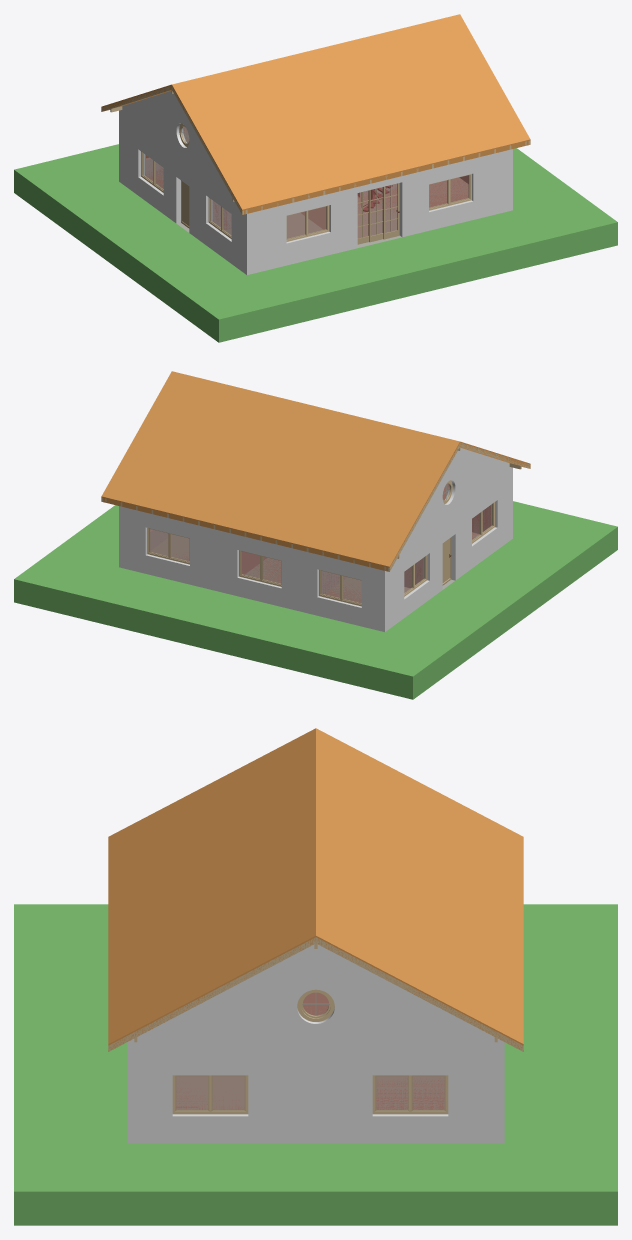
File: fzk.glb
The picture shows the model from 3 angles, top to bottom: view 1: azimuth 30°, elevation 25°; view 2: azimuth 150°, elevation 25°; view 3: azimuth 270°, elevation 25°; orthographic projection. The views are drawn at different scales.
Parts seen in each view (by area): view 1: 0KMpiAlnb52RgQuM1CwVfd, 2IxUUNUVPB6Ob$eicCfP2N, 16DNNqzfP2thtfaOflvsKA, 3rPX_Juz59peXXY6wDJl18, 0knNIAVBPBFvBy_m5QVHsU, 1pPHnf7cXCpPsNEnQf8_6B, 1M$gxUrX1Fiwe3P64ww7U5, 0Lt8gR_E9ESeGH5uY_g9e9, 25nJxEpYf8LRDJNkMUVO0m, 3BFcylCsX74PQAoRAe5fNv, 17JZcMFrf5tOftUTidA0d3, 0B1RwEzzP3CfME5NR$Vqh5 (+1 smaller); view 2: 0KMpiAlnb52RgQuM1CwVfd, 07Enbsqm9C7AQC9iyBwfSD, 1bzfVsJqn8De5PukCrqylz, 3rPX_Juz59peXXY6wDJl18, 0knNIAVBPBFvBy_m5QVHsU, 1pPHnf7cXCpPsNEnQf8_6B, 1DiYqhfzH9xxuJdVHwXCNa, 1TAI4ouKX4Xx4lBDZIu5qM, 2Q9w7oRXP249jBobEMVqlZ, 2RSCzLOBz4FAK$_wE8VckM, 0e_hbkIQ5DMQlIJ$2V3j_m, 347jFE2yX7IhCEIALmupEH (+2 smaller); view 3: 0KMpiAlnb52RgQuM1CwVfd, 07Enbsqm9C7AQC9iyBwfSD, 2IxUUNUVPB6Ob$eicCfP2N, 25fsbPyk15VvuXI$yNKenK, 3VCarUKgH1buLo22Ozxe6J, 1pPHnf7cXCpPsNEnQf8_6B, 13aSY79zb8fP4HApEJ0z_e, 2EQh_jhP1B_A_AMuSJc5E0, 347jFE2yX7IhCEIALmupEH, 0Lt8gR_E9ESeGH5uY_g9e9, 2CxE0$jXr8iOH1VC2gLCXX, 2in0QvfYXEawl1f3MP1bq2 (+1 smaller).
Part boxes in pixels (x1,y1,x2,y2): 0KMpiAlnb52RgQuM1CwVfd: (14,144,617,342); 2IxUUNUVPB6Ob$eicCfP2N: (172,14,530,214); 16DNNqzfP2thtfaOflvsKA: (247,149,512,274); 3rPX_Juz59peXXY6wDJl18: (119,119,246,274); 0knNIAVBPBFvBy_m5QVHsU: (119,91,236,204); 1pPHnf7cXCpPsNEnQf8_6B: (149,174,468,247); 1M$gxUrX1Fiwe3P64ww7U5: (357,183,399,244); 0Lt8gR_E9ESeGH5uY_g9e9: (358,175,468,237); 25nJxEpYf8LRDJNkMUVO0m: (286,205,329,241); 3BFcylCsX74PQAoRAe5fNv: (429,174,471,210); 17JZcMFrf5tOftUTidA0d3: (213,201,325,237); 0B1RwEzzP3CfME5NR$Vqh5: (208,197,231,238); 0KMpiAlnb52RgQuM1CwVfd: (14,501,617,699); 07Enbsqm9C7AQC9iyBwfSD: (101,371,459,571); 1bzfVsJqn8De5PukCrqylz: (119,506,384,631); 3rPX_Juz59peXXY6wDJl18: (385,476,512,631); 0knNIAVBPBFvBy_m5QVHsU: (395,448,512,561); 1pPHnf7cXCpPsNEnQf8_6B: (150,532,479,602); 1DiYqhfzH9xxuJdVHwXCNa: (147,528,189,564); 1TAI4ouKX4Xx4lBDZIu5qM: (319,570,361,606); 2Q9w7oRXP249jBobEMVqlZ: (239,550,281,586); 2RSCzLOBz4FAK$_wE8VckM: (322,559,422,602); 0e_hbkIQ5DMQlIJ$2V3j_m: (242,551,280,582); 347jFE2yX7IhCEIALmupEH: (150,529,189,560); 0KMpiAlnb52RgQuM1CwVfd: (14,904,617,1225); 07Enbsqm9C7AQC9iyBwfSD: (316,728,523,1051); 2IxUUNUVPB6Ob$eicCfP2N: (108,728,315,1051); 25fsbPyk15VvuXI$yNKenK: (127,1051,504,1143); 3VCarUKgH1buLo22Ozxe6J: (127,944,504,1051); 1pPHnf7cXCpPsNEnQf8_6B: (176,1076,444,1109); 13aSY79zb8fP4HApEJ0z_e: (372,1075,448,1114); 2EQh_jhP1B_A_AMuSJc5E0: (172,1075,248,1114); 347jFE2yX7IhCEIALmupEH: (376,1077,444,1109); 0Lt8gR_E9ESeGH5uY_g9e9: (176,1077,244,1109); 2CxE0$jXr8iOH1VC2gLCXX: (316,937,523,1051); 2in0QvfYXEawl1f3MP1bq2: (108,937,315,1051).
Bounding box in the file's own units: 18 × 7.32 × 16.
